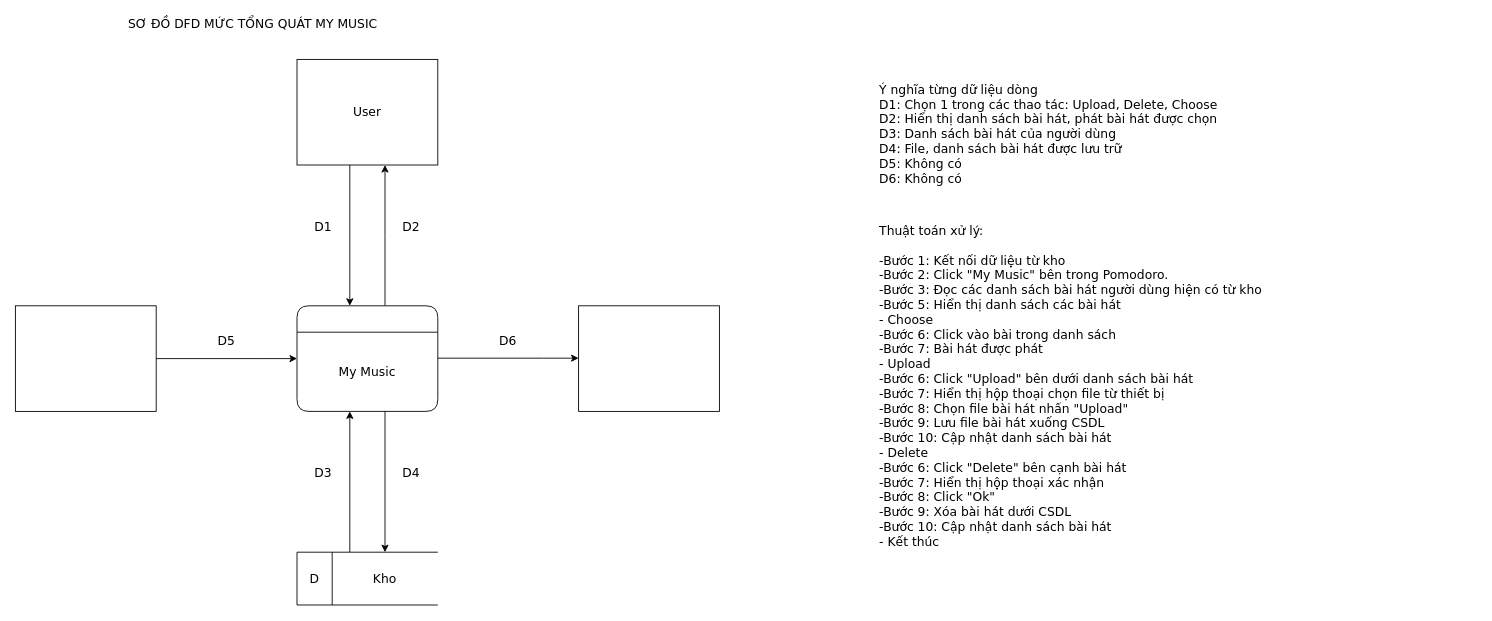
Some shapes in this 1492 by 621 pixel diagram are drawn without their labels. Here are the shapes that lost their labels. From the top down, the centre of each, then its label:
[85,358]: Thiết bị nhập
[648,358]: Thiết bị xuất
